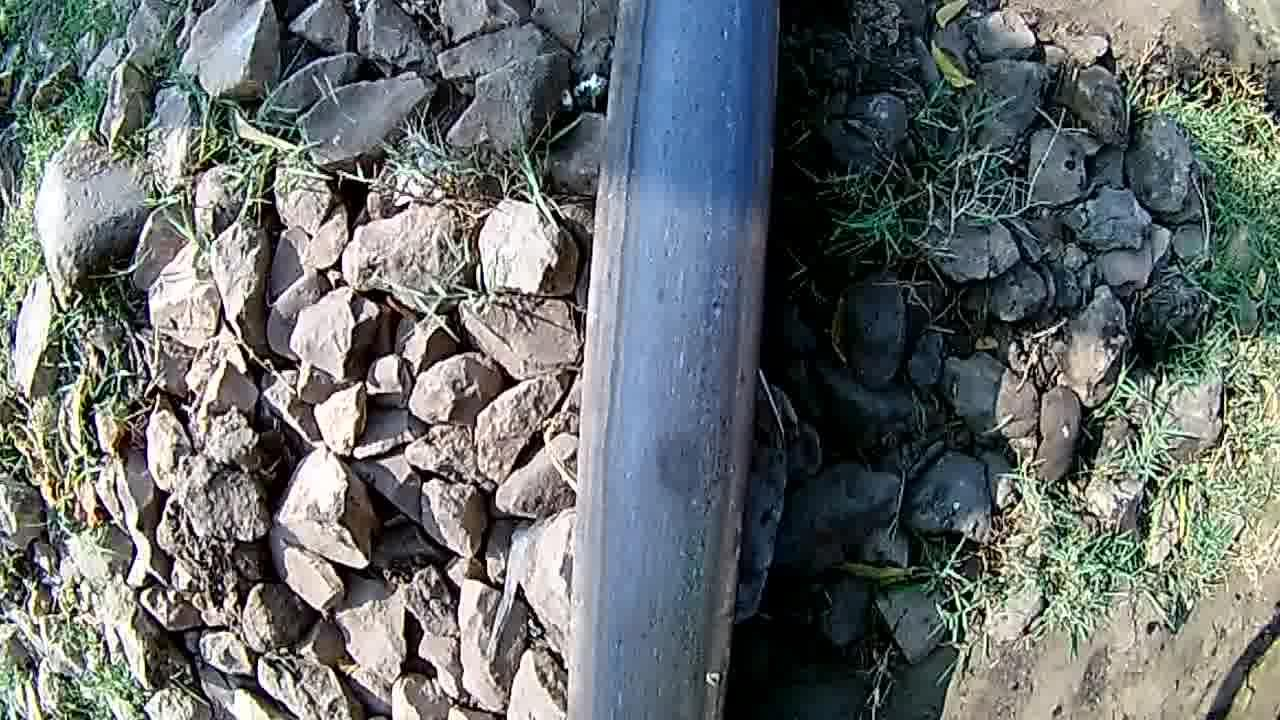bolt_missing: (592, 366, 753, 580)
